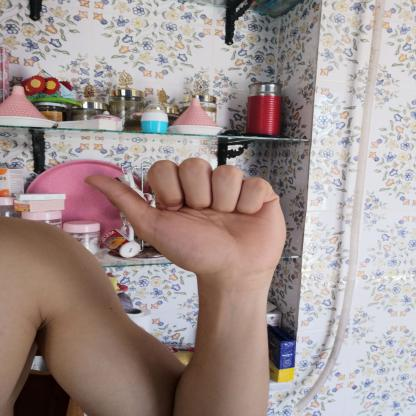DAD: (73, 151, 298, 287)
